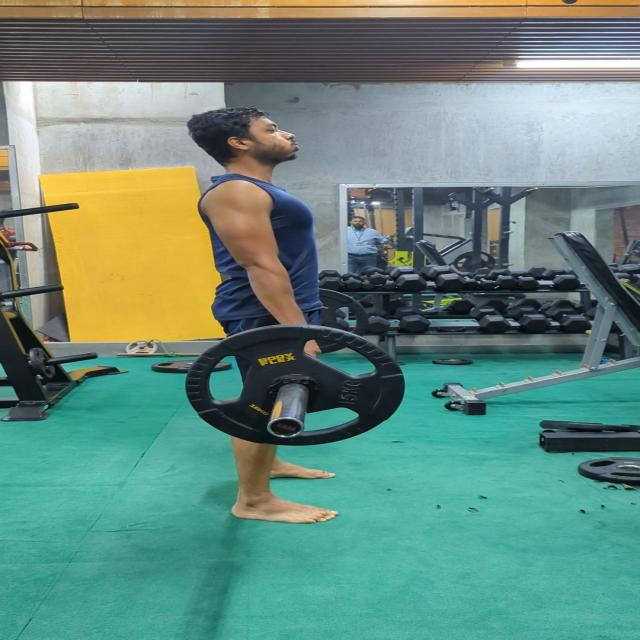Normal_Deadlifts: (184, 105, 350, 525)
